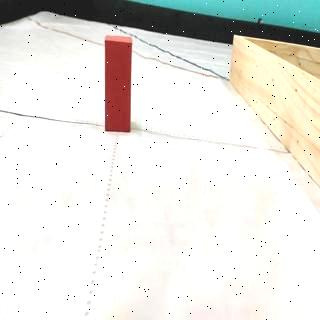redbox: (104, 35, 132, 132)
